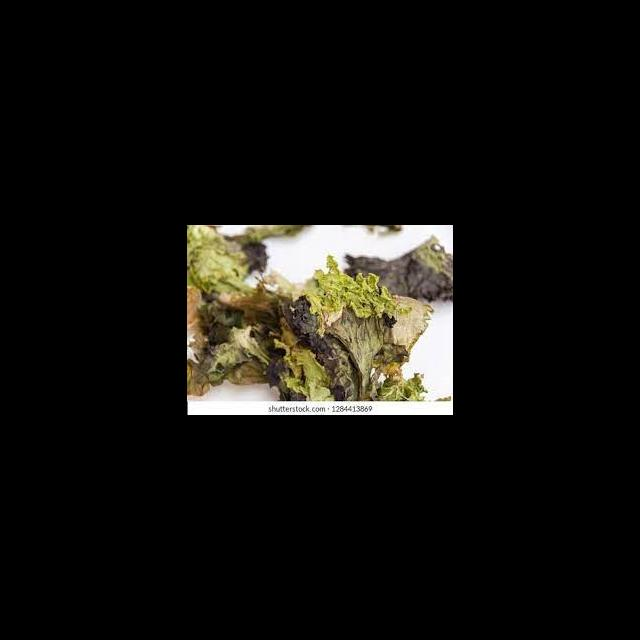food_waste: (268, 279, 426, 394)
